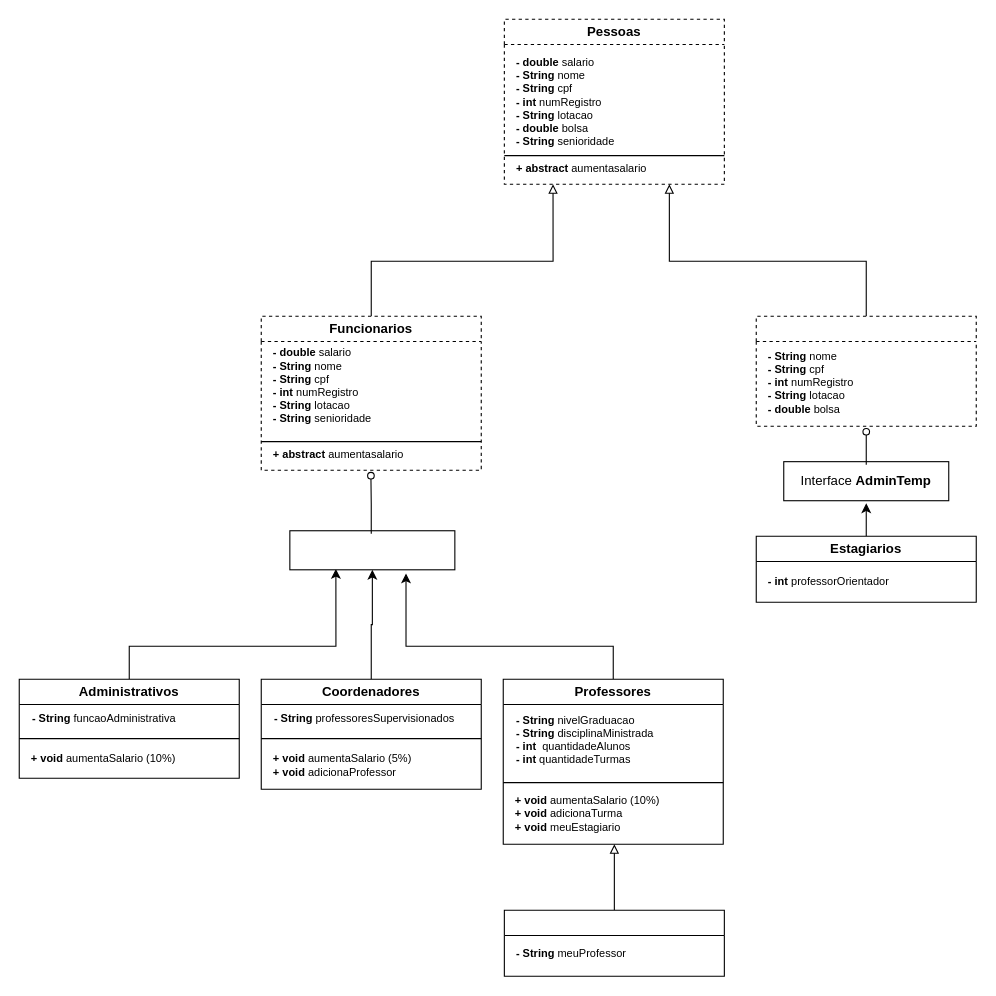
This 996x996 diagram has some shape labels left out. The shapes that lost their labels are listed below. From the top down, each one's centre as x and y in pixels, then its label:
the point at 865,370: Temporarios
the point at 372,550: Interface AdminFunc
the point at 613,942: Turma
